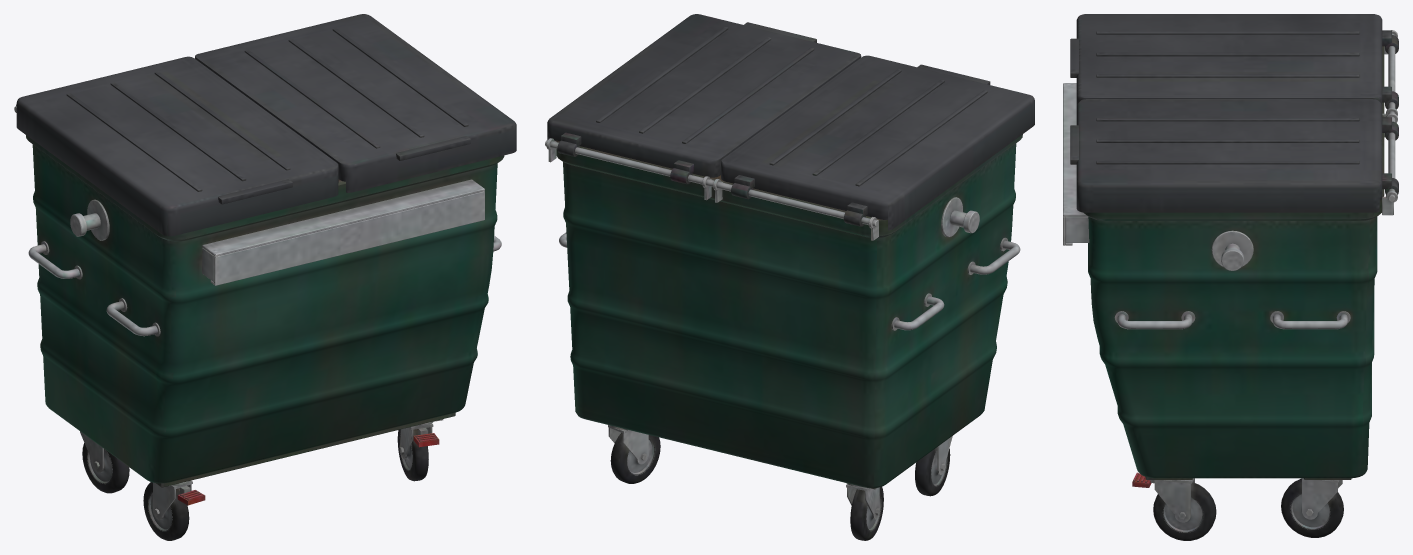
Rendered from dumpster.glb.
3 views of the same model, side by side, from view 1: azimuth 30°, elevation 25°; view 2: azimuth 150°, elevation 25°; view 3: azimuth 270°, elevation 25° (orthographic). The views are drawn at different scales.
Parts seen in each view (by area): view 1: dumpster_body; view 2: dumpster_body; view 3: dumpster_body.
Boxes of the visible parts, x1,y1,x2,y2 form: dumpster_body: [14, 14, 516, 540]; dumpster_body: [545, 14, 1034, 540]; dumpster_body: [1063, 14, 1398, 540].
Bounding box in the file's own units: 1.38 × 1.33 × 1.06.
1 material, 1 textured.
